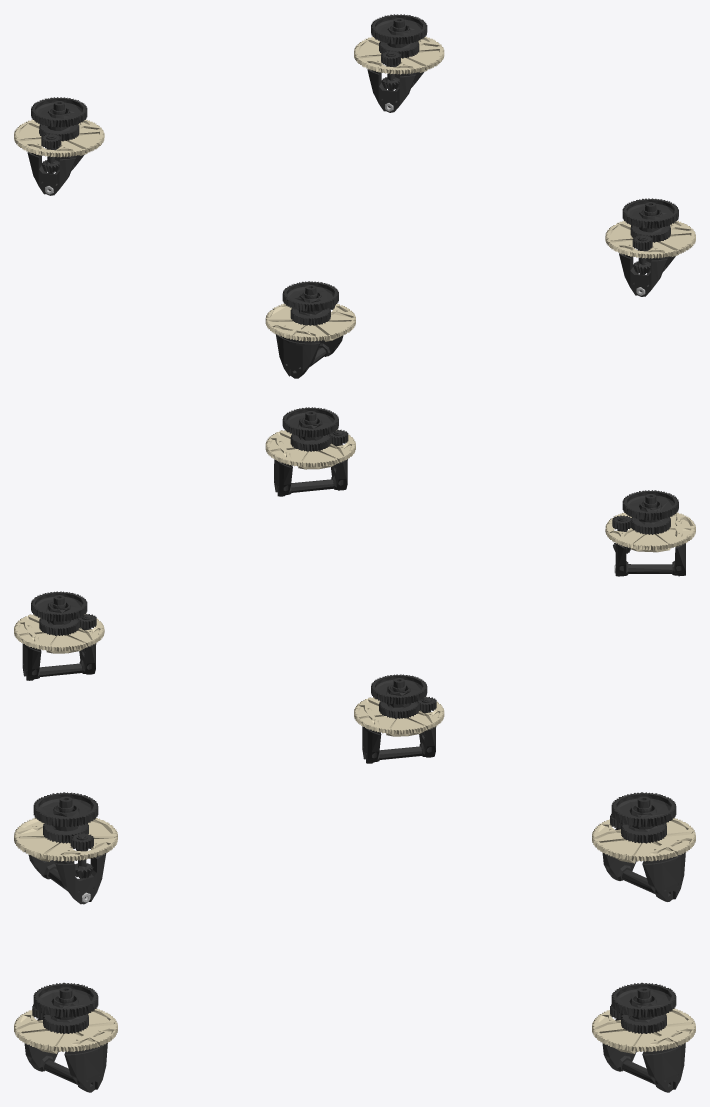
Rendered from 1114-steer.glb.
3 views of the same model, one above another, from view 1: azimuth 30°, elevation 25°; view 2: azimuth 150°, elevation 25°; view 3: azimuth 270°, elevation 25° (orthographic). The views are drawn at different scales.
Visible parts, largest first — view 1: WCP Swerve X2 Hardware Kit (WCP-1700-001), WCP Swerve X2 (88t Rotation Gear) (WCP-1712); view 2: WCP Swerve X2 Hardware Kit (WCP-1700-001), WCP Swerve X2 (88t Rotation Gear) (WCP-1712); view 3: WCP Swerve X2 Hardware Kit (WCP-1700-001), WCP Swerve X2 (88t Rotation Gear) (WCP-1712).
Part boxes in pixels (left/top/right/bottom): WCP Swerve X2 Hardware Kit (WCP-1700-001): left=27, top=14, right=678, bottom=378; WCP Swerve X2 (88t Rotation Gear) (WCP-1712): left=14, top=36, right=695, bottom=341; WCP Swerve X2 Hardware Kit (WCP-1700-001): left=22, top=407, right=685, bottom=763; WCP Swerve X2 (88t Rotation Gear) (WCP-1712): left=14, top=429, right=695, bottom=736; WCP Swerve X2 Hardware Kit (WCP-1700-001): left=24, top=792, right=685, bottom=1092; WCP Swerve X2 (88t Rotation Gear) (WCP-1712): left=14, top=818, right=695, bottom=1053.
Size of the model in its own units: 0.6096 by 0.1111 by 0.7493.
